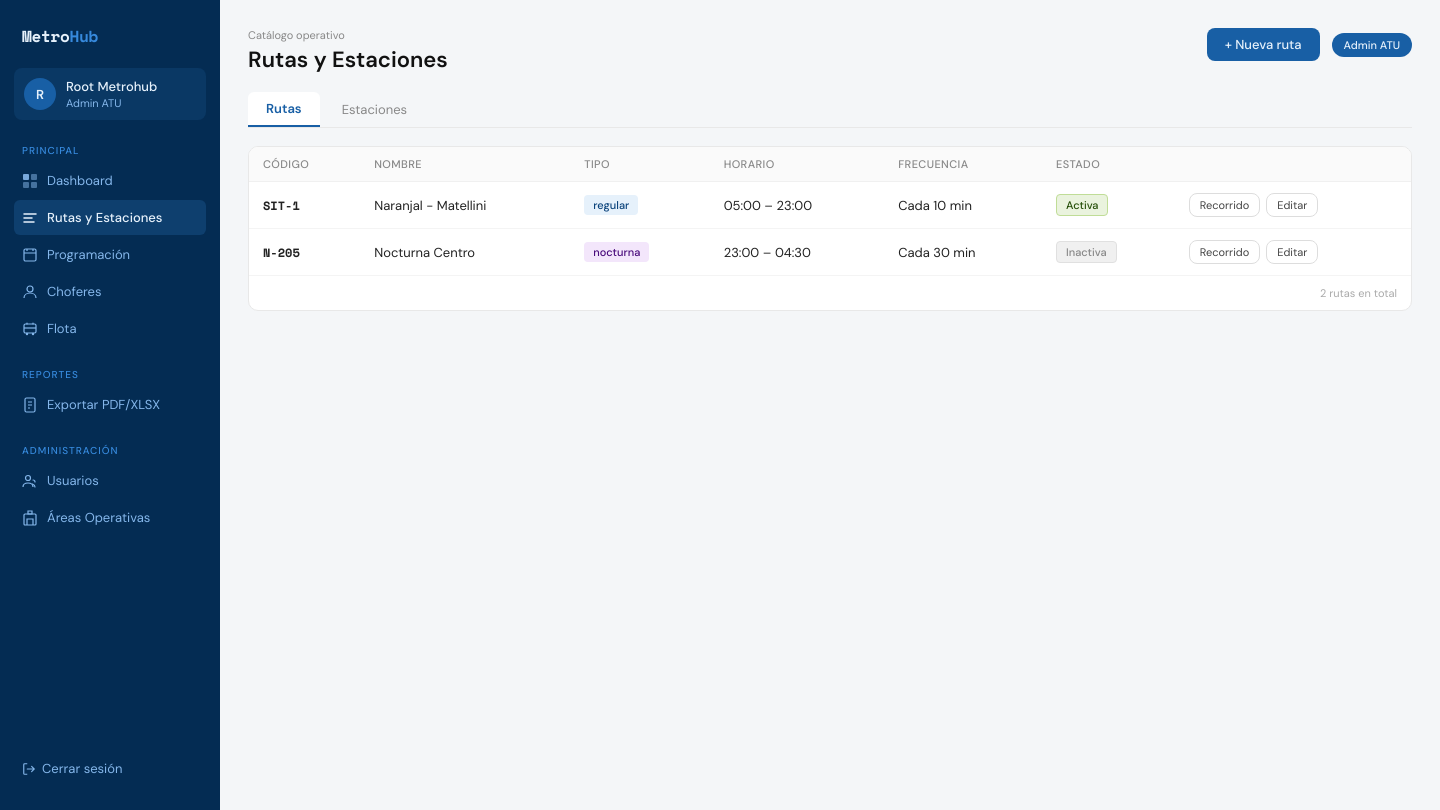
Test: Rutas (RF02) › crea una ruta validando código y nombre
Expected: the text "SIT-1" is shown, [263,196,300,214]
Click the button "+ Nueva ruta" at (1263, 44), box [1207,28,1320,61]
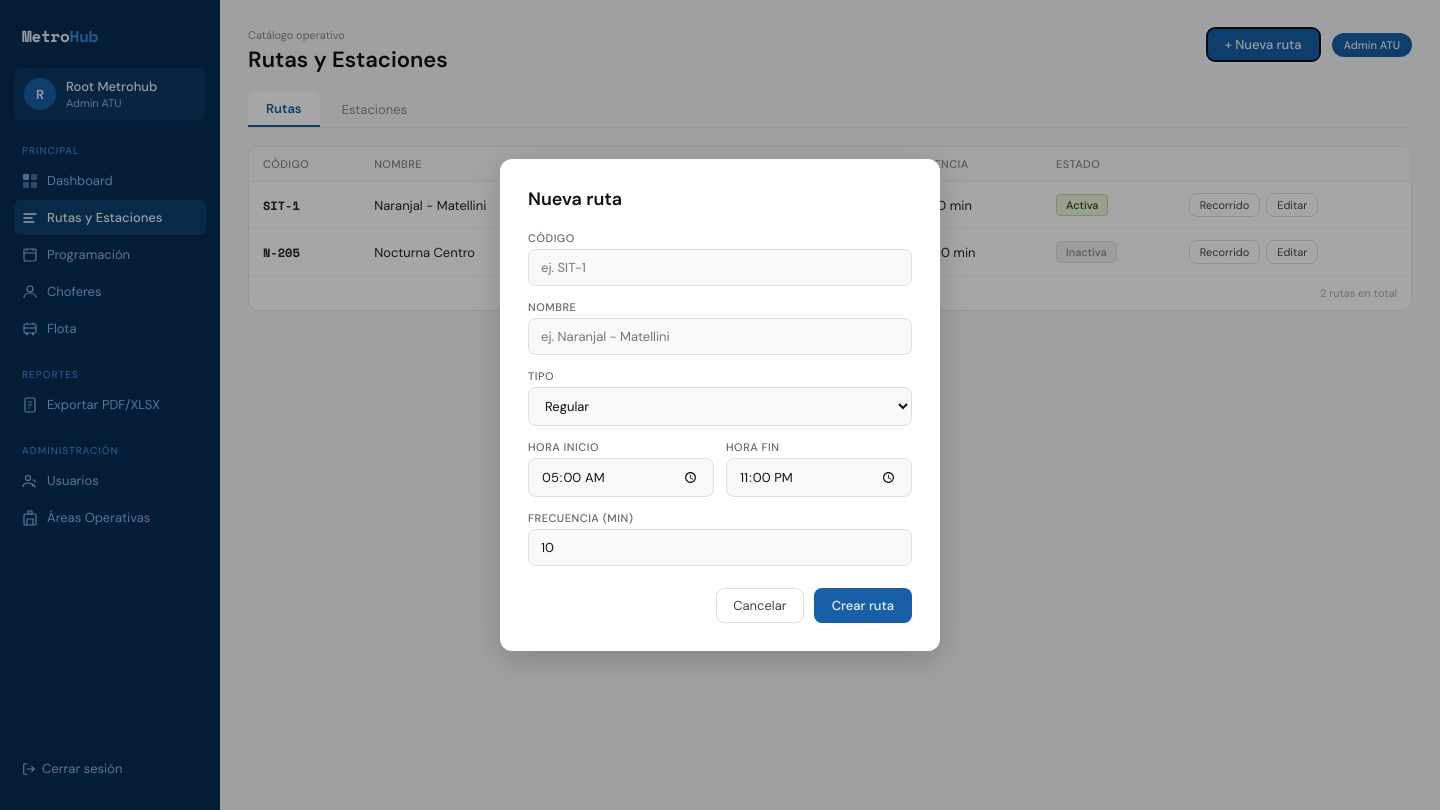
Click the button "Crear ruta" at (863, 606), box [814,588,912,623]
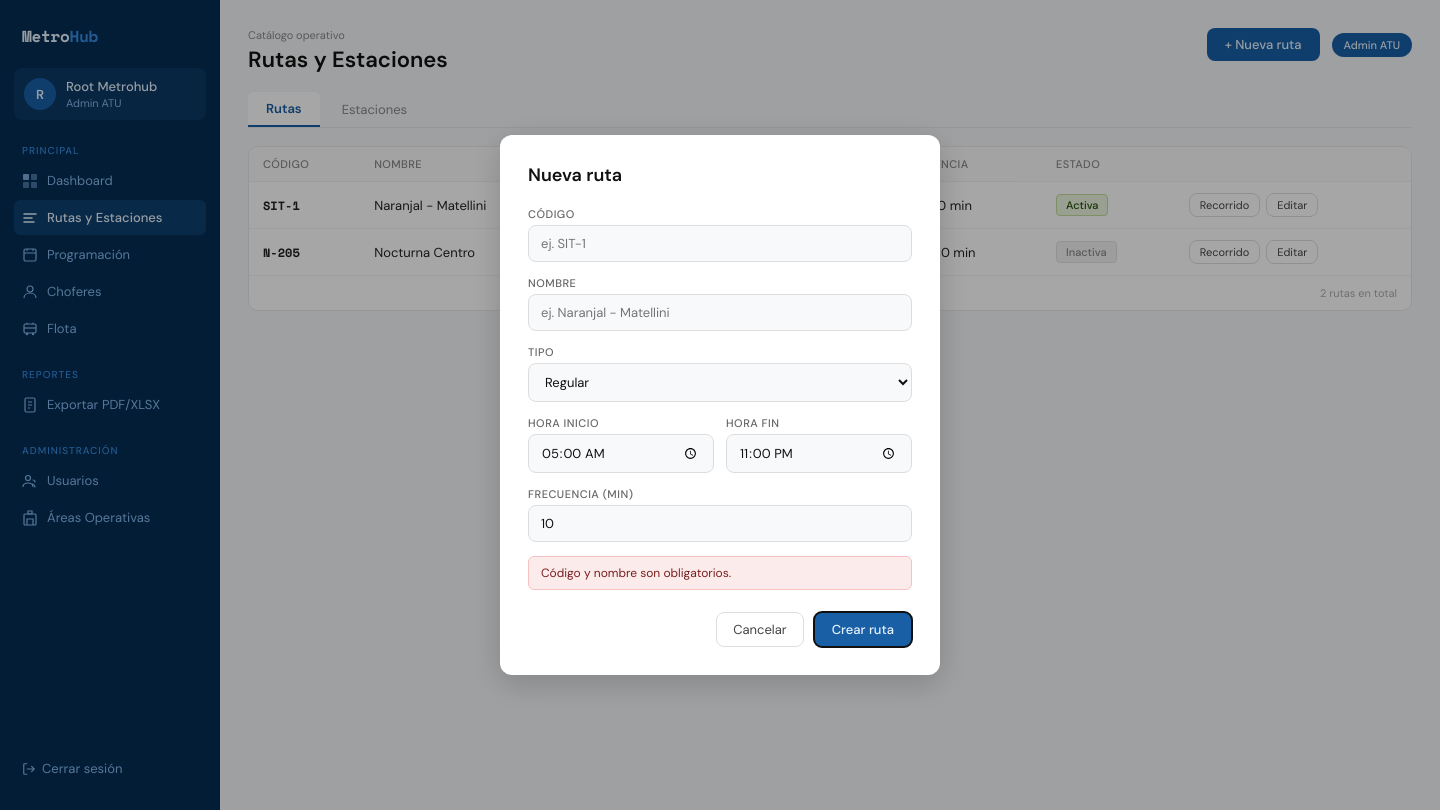
Expected: the text "Código y nombre son obligatorios." is shown, [541,565,731,581]
Type "EXP-2" into the field with placeholder "ej. SIT-1" at (720, 243), box [528,225,912,262]
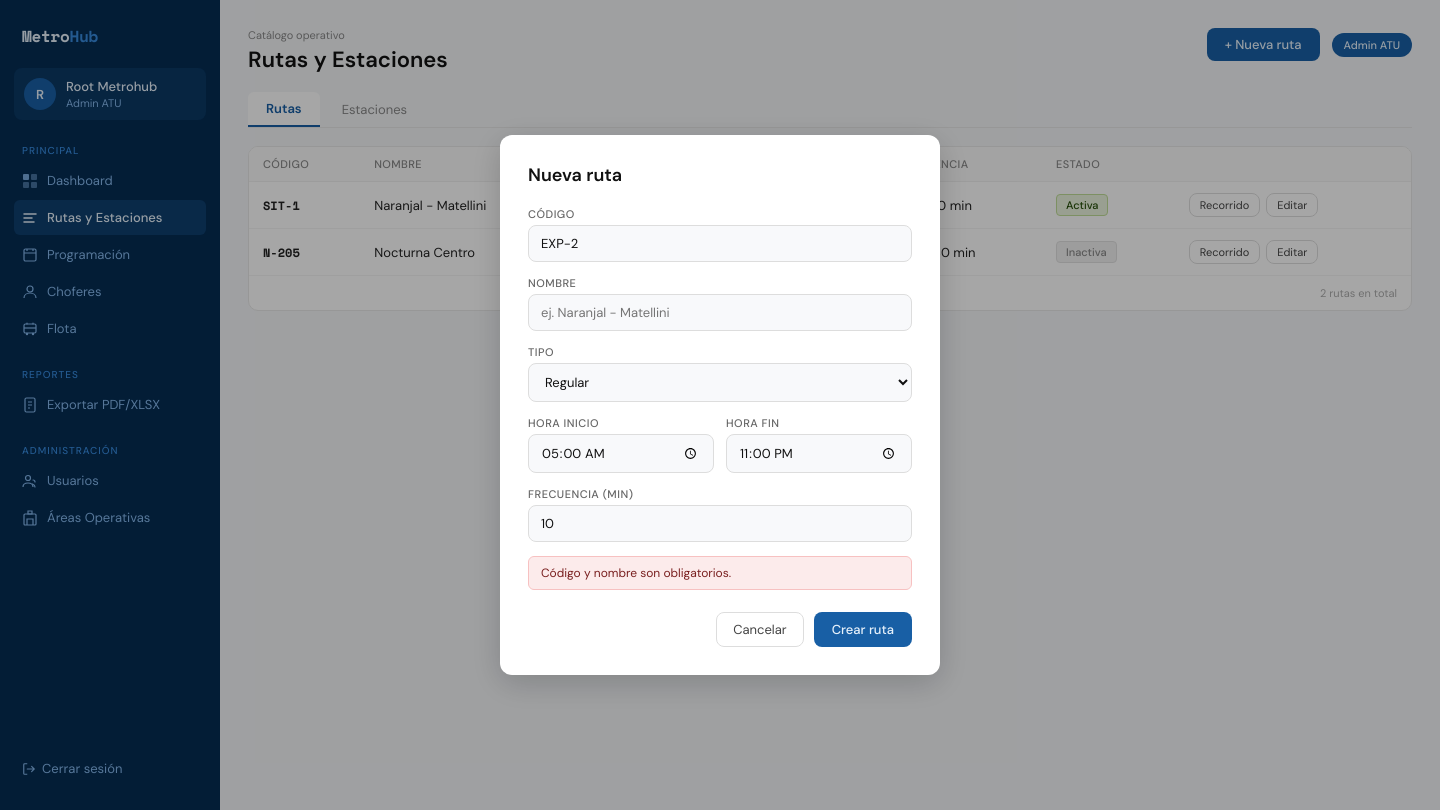
Type "Expreso Sur" into the field with placeholder "ej. Naranjal - Matellini" at (720, 312), box [528,294,912,331]
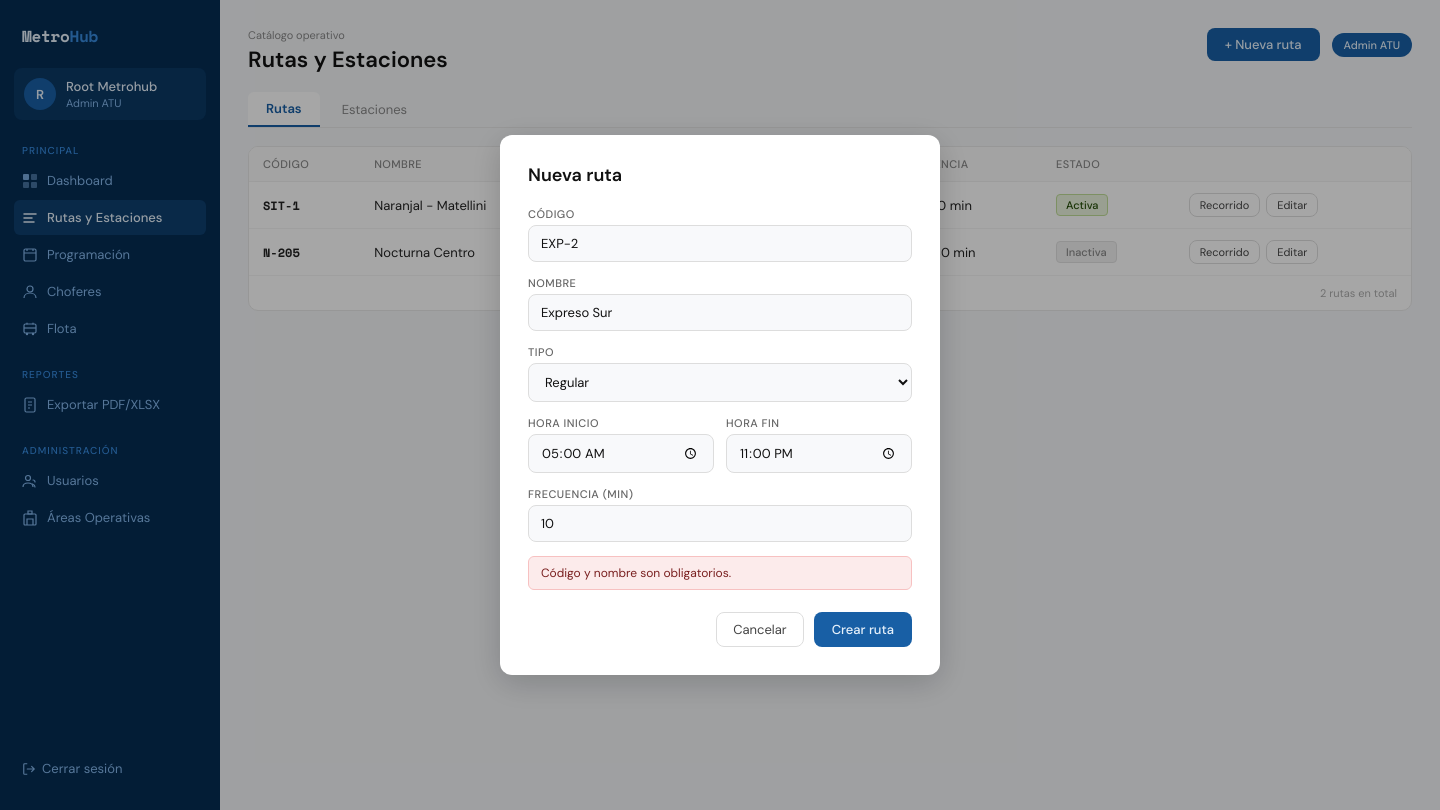
Click the button "Crear ruta" at (863, 630), box [814,612,912,647]
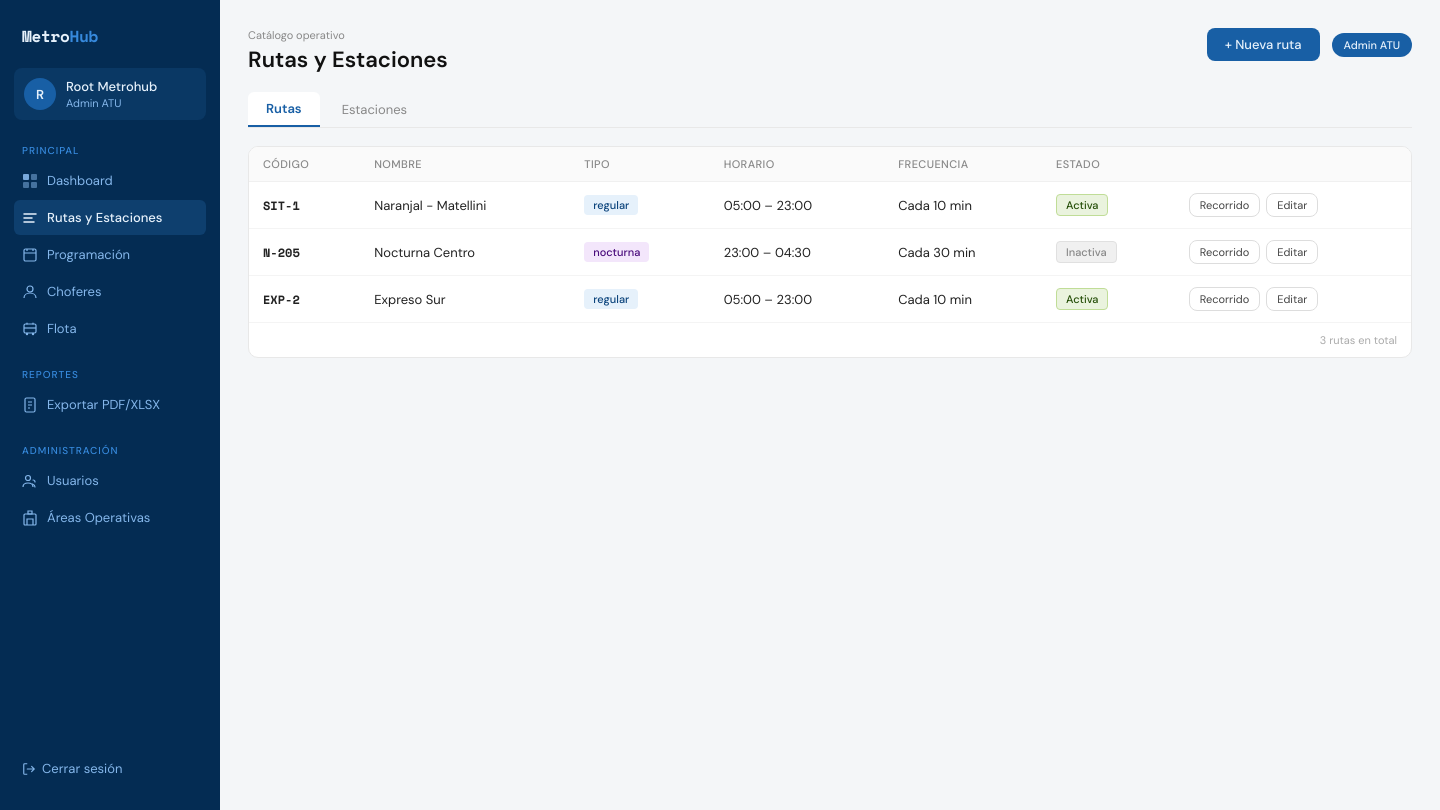
Expected: the text "EXP-2" is shown, [263,290,300,308]
Expected: the text "3 rutas en total" is shown, [1320,333,1397,347]
